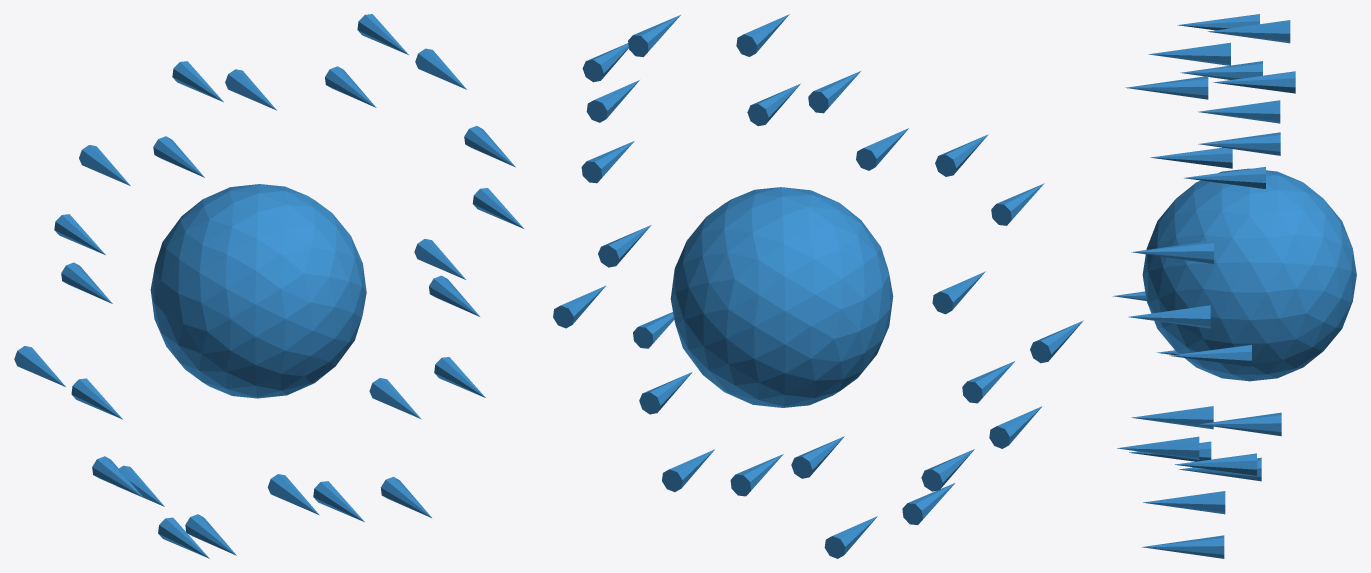
Rendered from nature_175.glb.
3 views of the same model, side by side, from view 1: azimuth 30°, elevation 25°; view 2: azimuth 150°, elevation 25°; view 3: azimuth 270°, elevation 25° (orthographic). The views are drawn at different scales.
Parts seen in each view (by area): view 1: world; view 2: world; view 3: world.
Part boxes in pixels (x1=…): world: x1=14, y1=14, x2=523, y2=558; world: x1=553, y1=14, x2=1083, y2=558; world: x1=1112, y1=14, x2=1356, y2=558.
Bounding box in the file's own units: 2.25 × 2.16 × 1.03.
